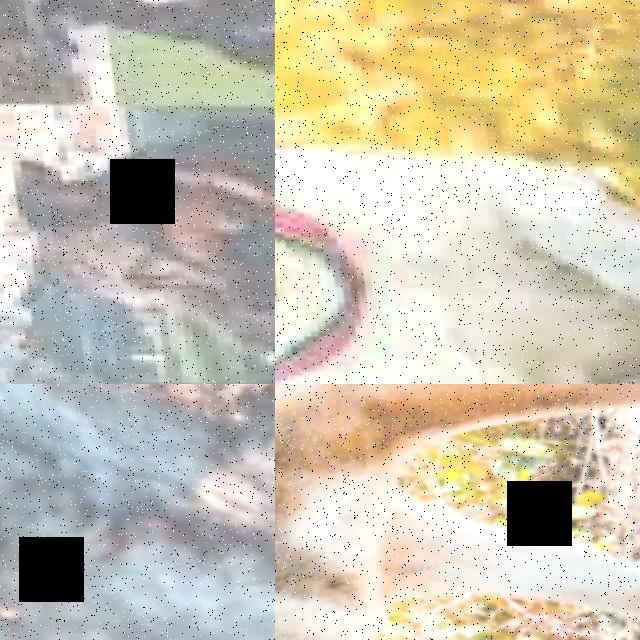dog: (275, 0, 640, 384), (0, 91, 275, 384), (0, 0, 275, 111)
wolf: (275, 384, 640, 640), (0, 384, 275, 640)
